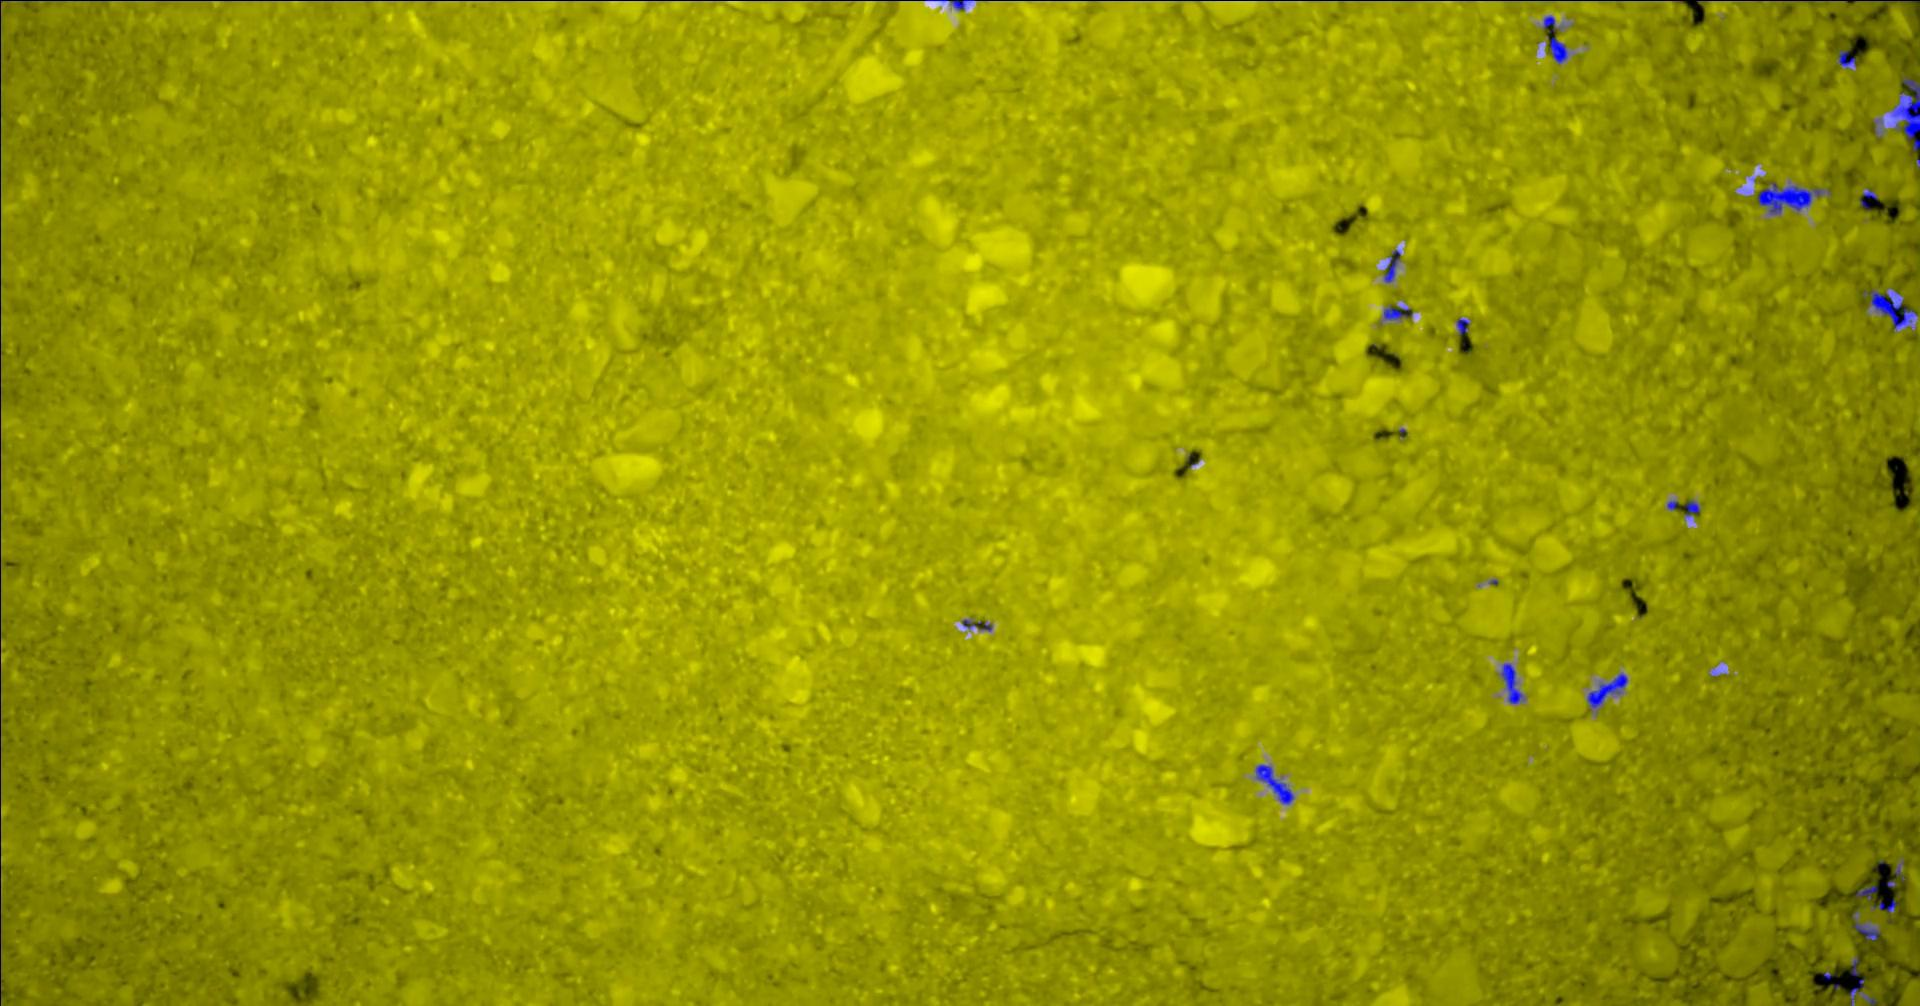ant: (1759, 180, 1823, 213), (1864, 290, 1917, 329), (1895, 76, 1920, 151), (1257, 763, 1297, 804), (1589, 673, 1629, 708), (1545, 15, 1570, 64), (1502, 663, 1526, 702), (1853, 909, 1881, 940), (1851, 956, 1865, 1005), (1385, 249, 1402, 282), (926, 0, 977, 10), (1385, 305, 1415, 320), (1862, 187, 1879, 210), (1872, 898, 1897, 912), (963, 619, 993, 630), (1857, 885, 1879, 901), (1839, 50, 1857, 67), (1688, 500, 1702, 516), (1458, 318, 1470, 334)
